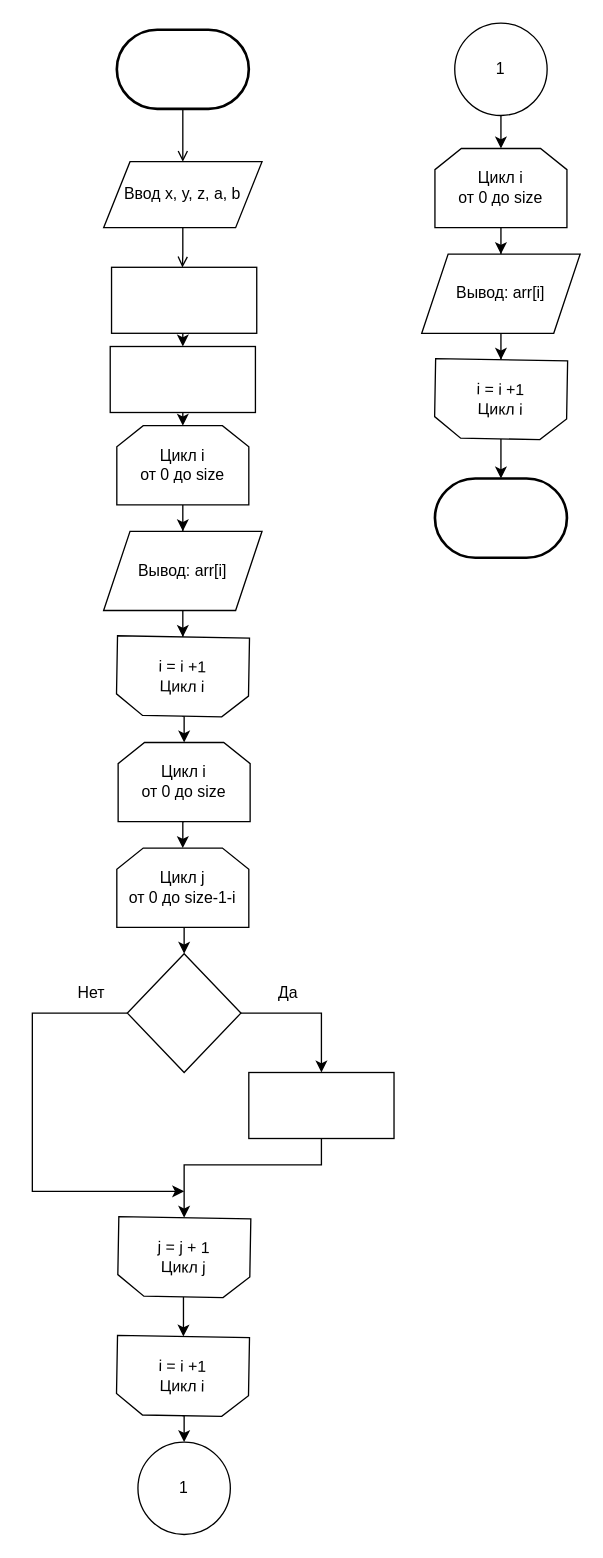
Image size: 603x1558. Some labels were removed from this diagram. Here are the shapes that lost their labels. From the top down, the centre of each, then its label:
the point at 182,69: Вход
the point at 183,299: size = 5
the point at 182,378: arr[size]{x, y, z, a,b}
the point at 500,517: Конец
the point at 183,1012: arr[j]>arr[j+1]
the point at 321,1104: swap arr[j], arr[j+1]
